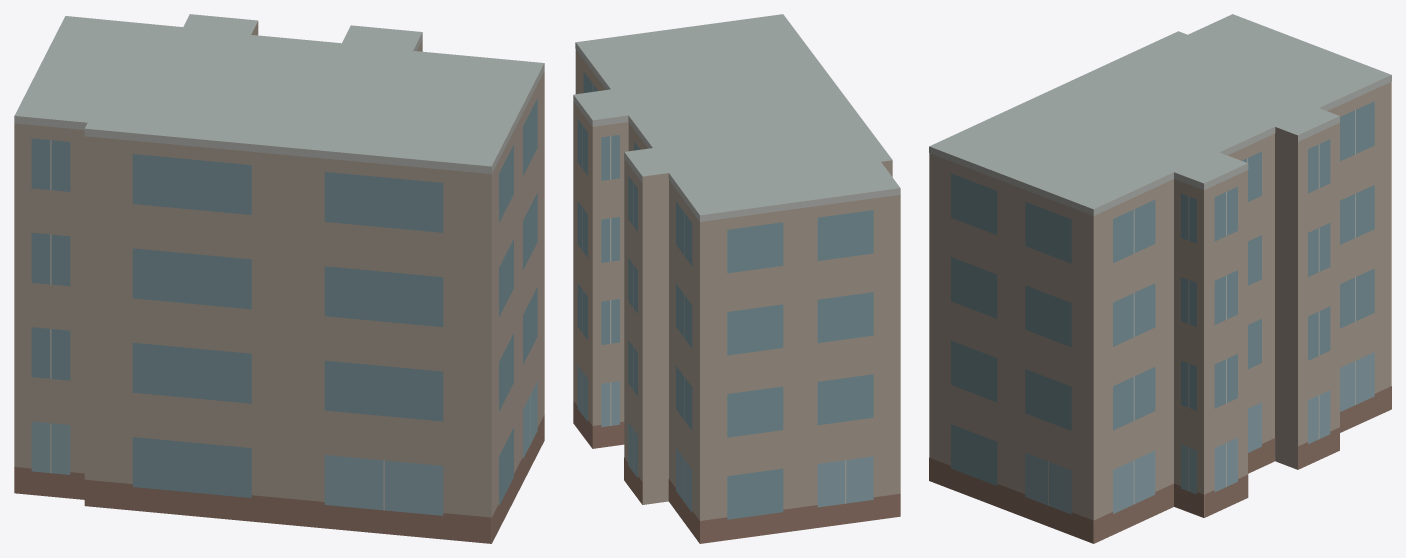
Rendered from survey-upis-32821118.glb.
The picture shows the model from 3 angles, left to right: view 1: azimuth 30°, elevation 25°; view 2: azimuth 150°, elevation 25°; view 3: azimuth 270°, elevation 25°; orthographic projection. The views are drawn at different scales.
Visible parts, largest first — view 1: survey-upis-32821118.tmp; view 2: survey-upis-32821118.tmp; view 3: survey-upis-32821118.tmp.
Part boxes in pixels (x1,y1,x2,y2): survey-upis-32821118.tmp: (14, 14, 544, 543); survey-upis-32821118.tmp: (573, 14, 900, 543); survey-upis-32821118.tmp: (929, 14, 1391, 543).
Size of the model in its own units: 15.29 by 12.2 by 15.3.
